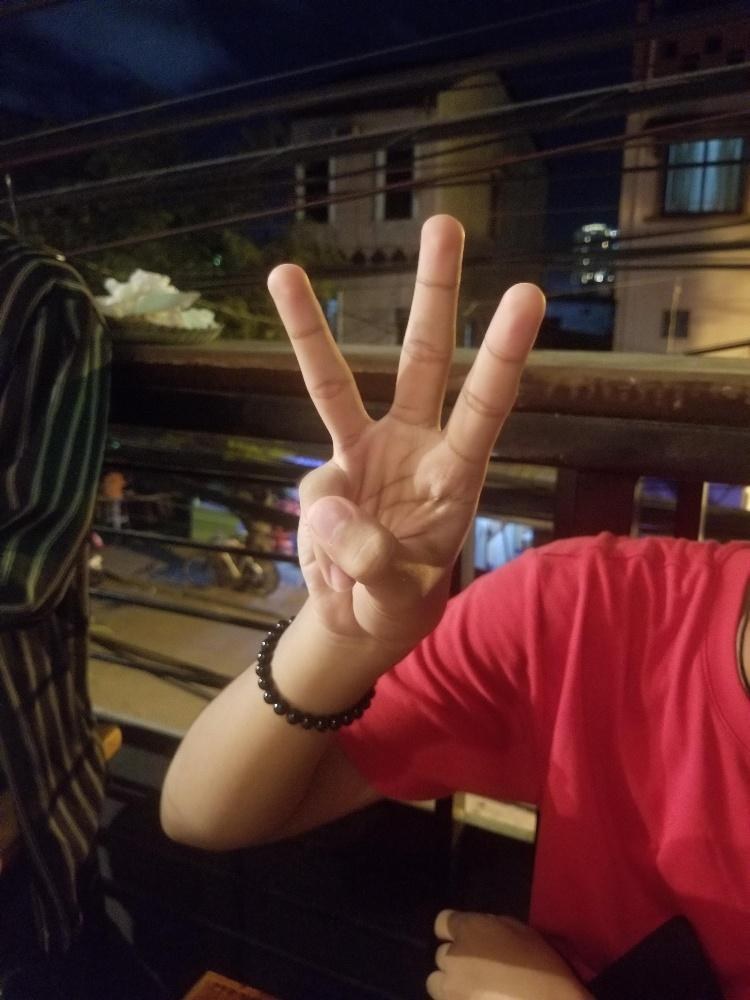w: (267, 210, 545, 639)
